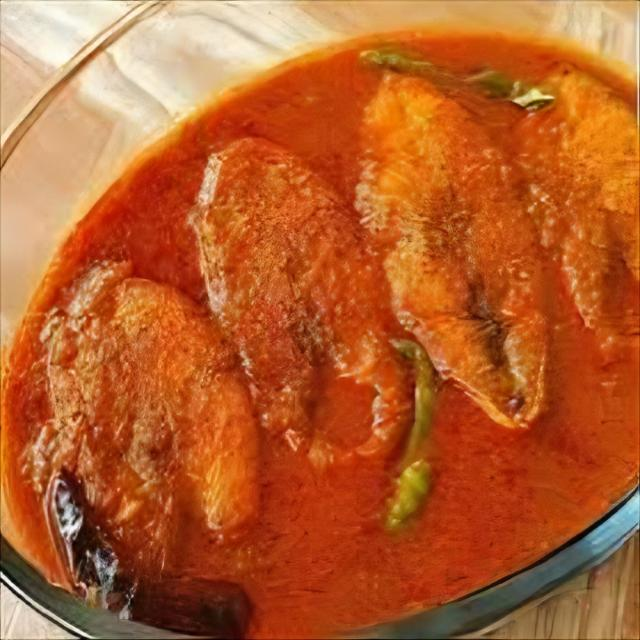FISH CURRY: (3, 31, 639, 636)
